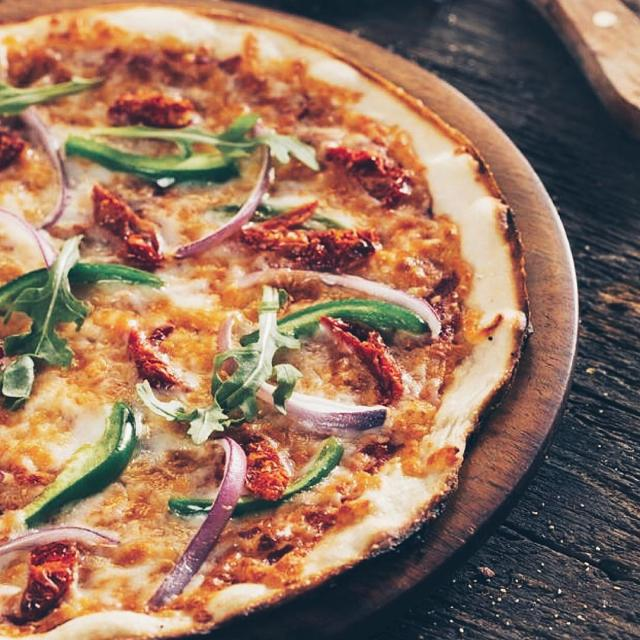pizza: (0, 3, 537, 640)
